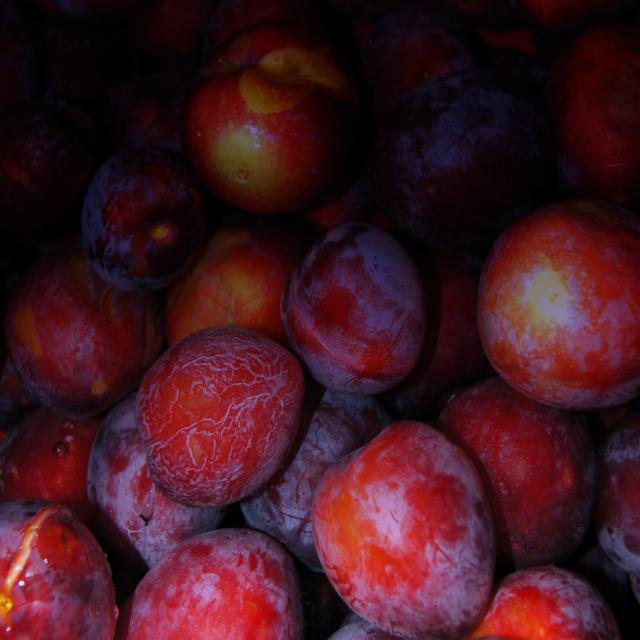Healty Apple: (309, 411, 492, 638)
